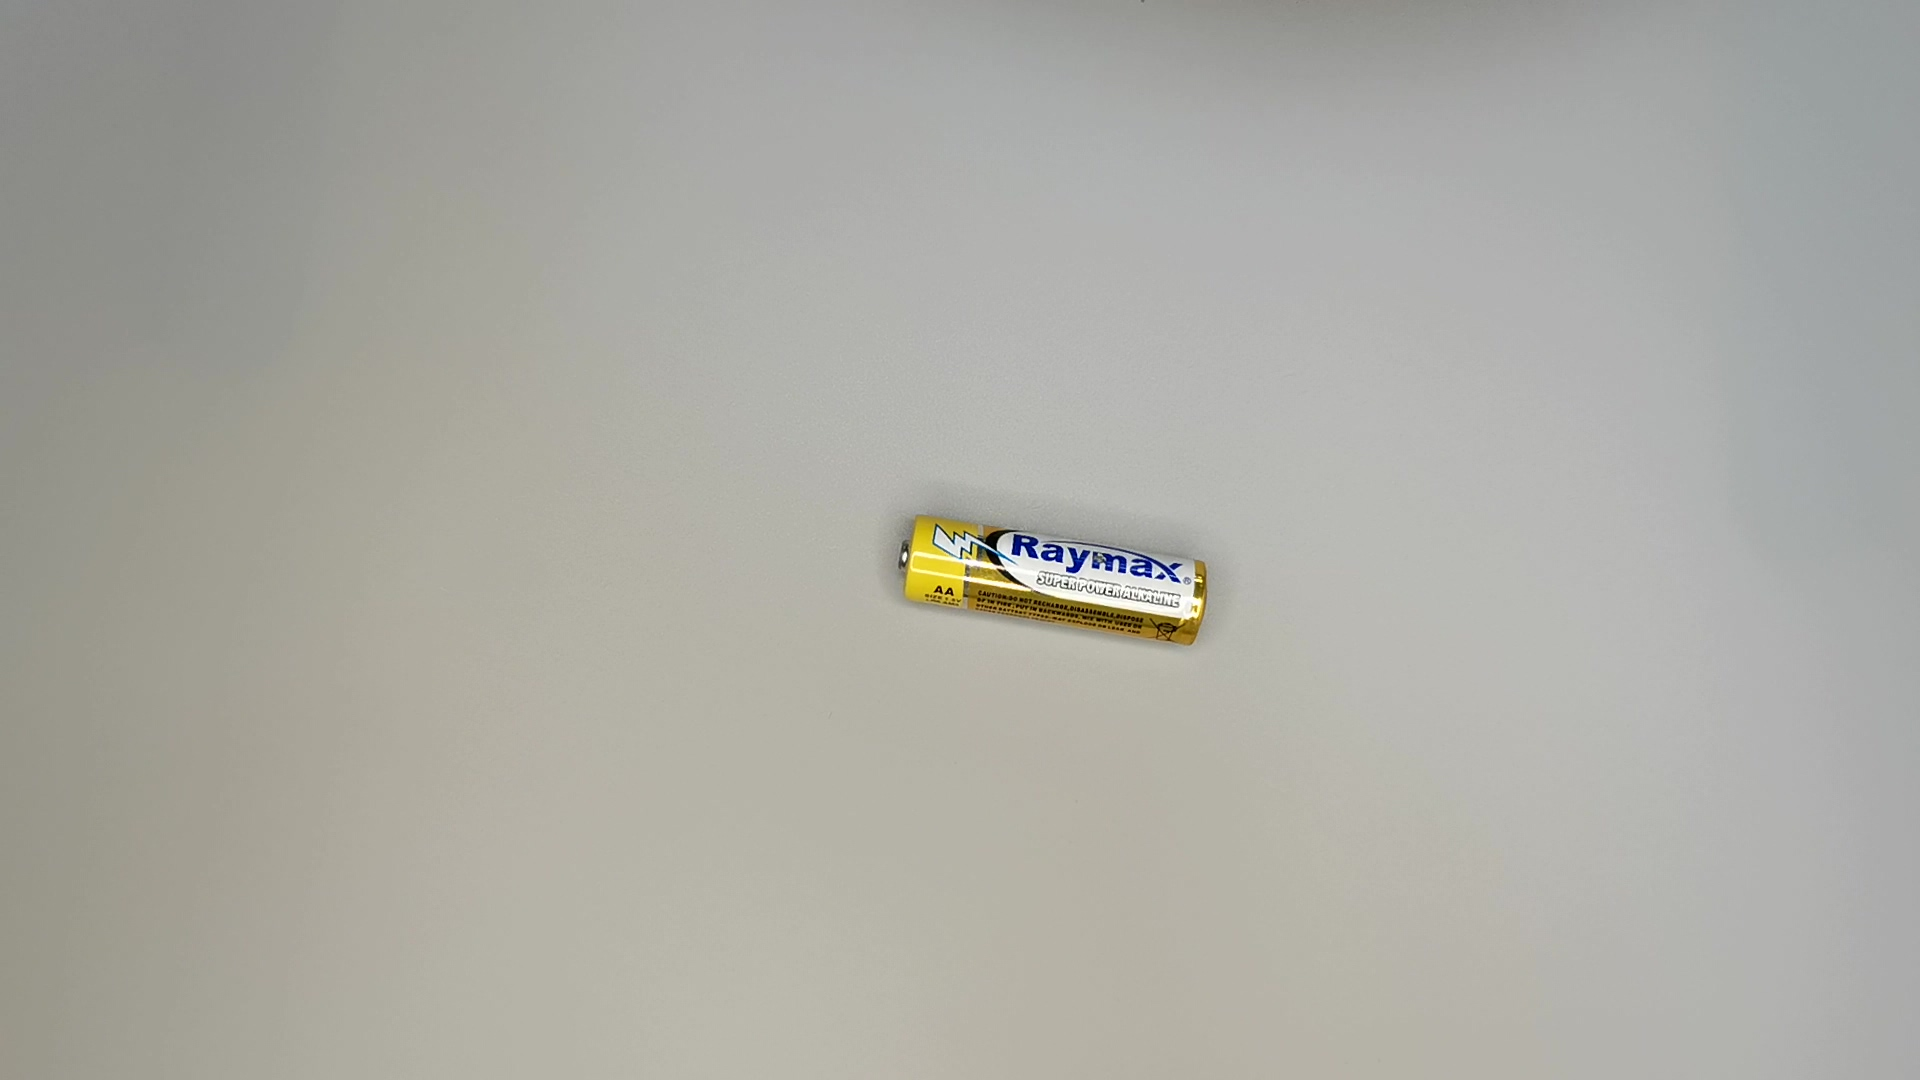battery: (891, 513, 1218, 657)
